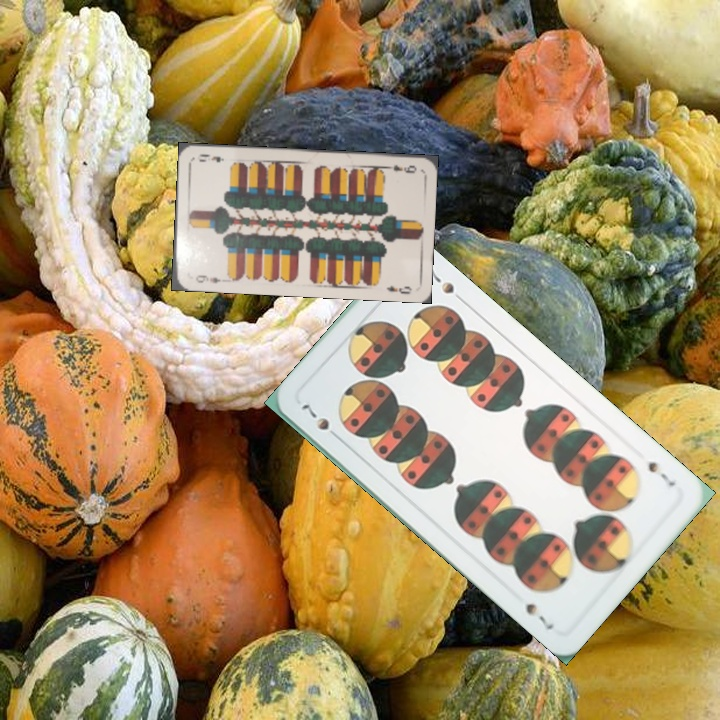E9: (381, 161, 419, 176), (192, 271, 223, 286)
S7: (297, 399, 344, 443), (643, 457, 679, 490)
